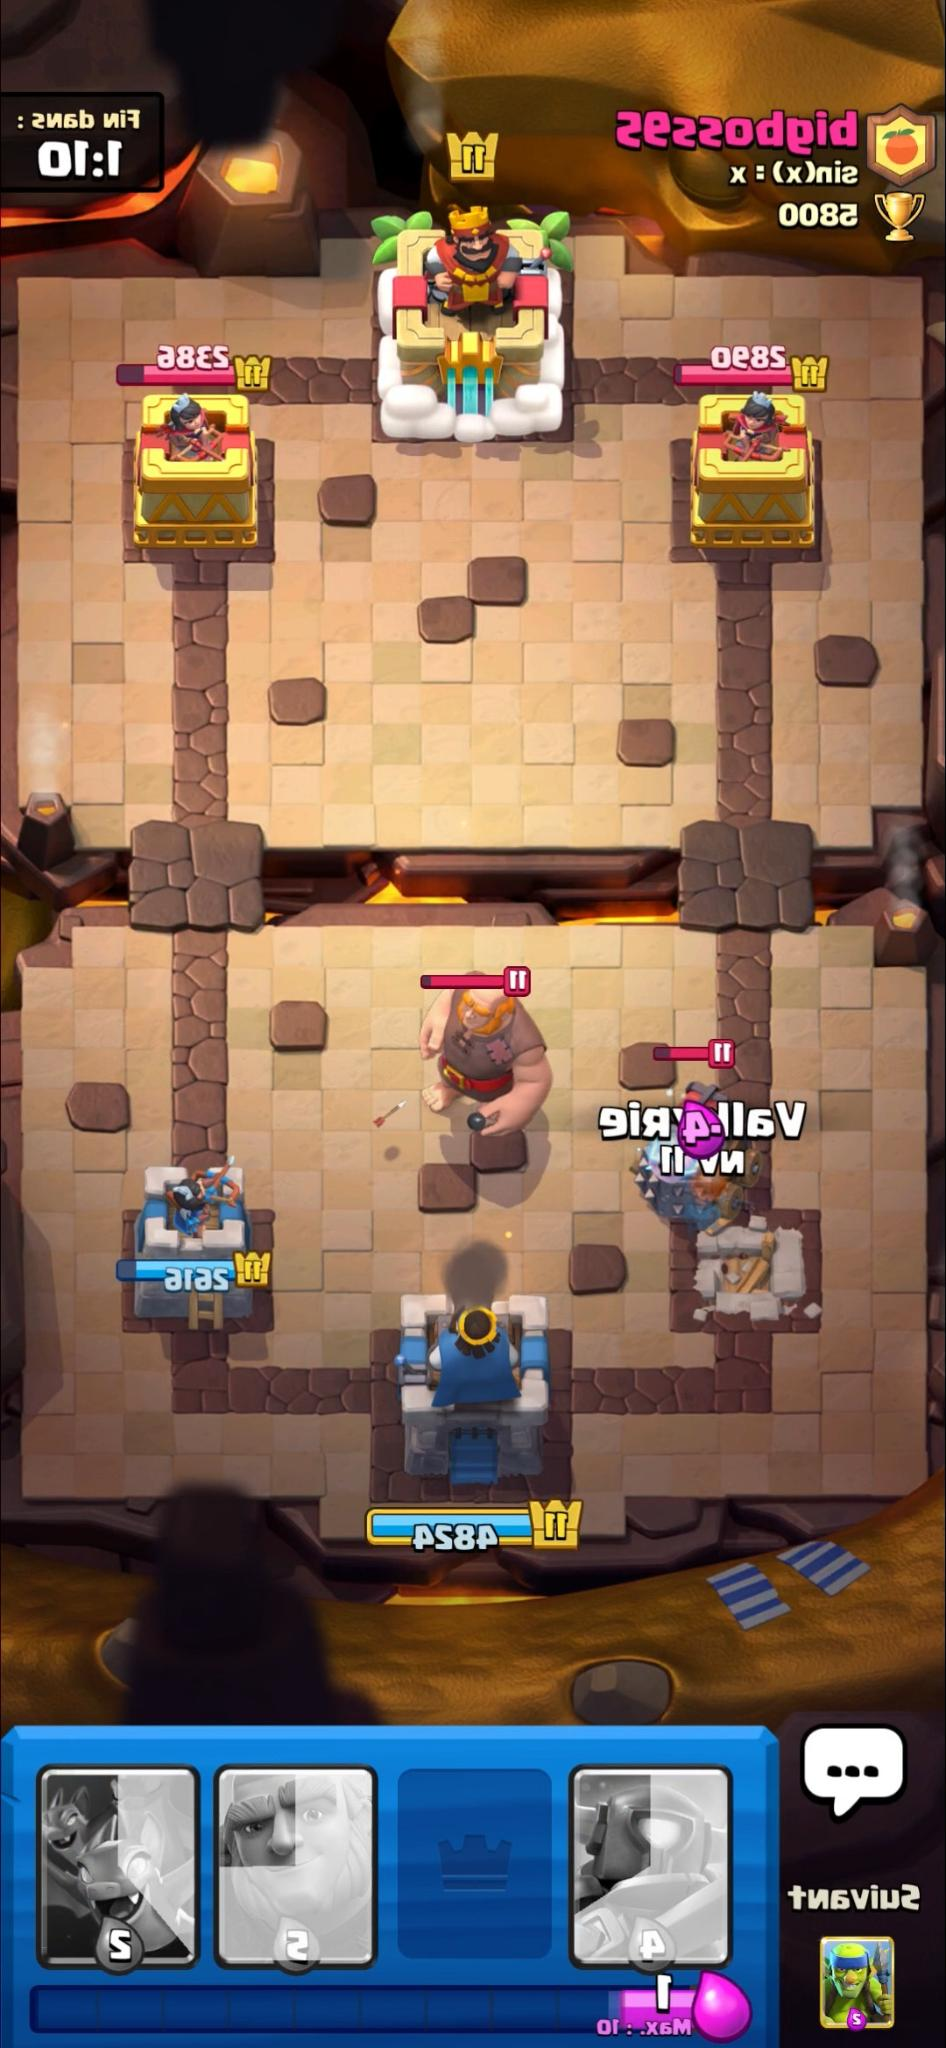geant: (412, 970, 551, 1139)
valkyrie: (685, 1176, 717, 1226)
